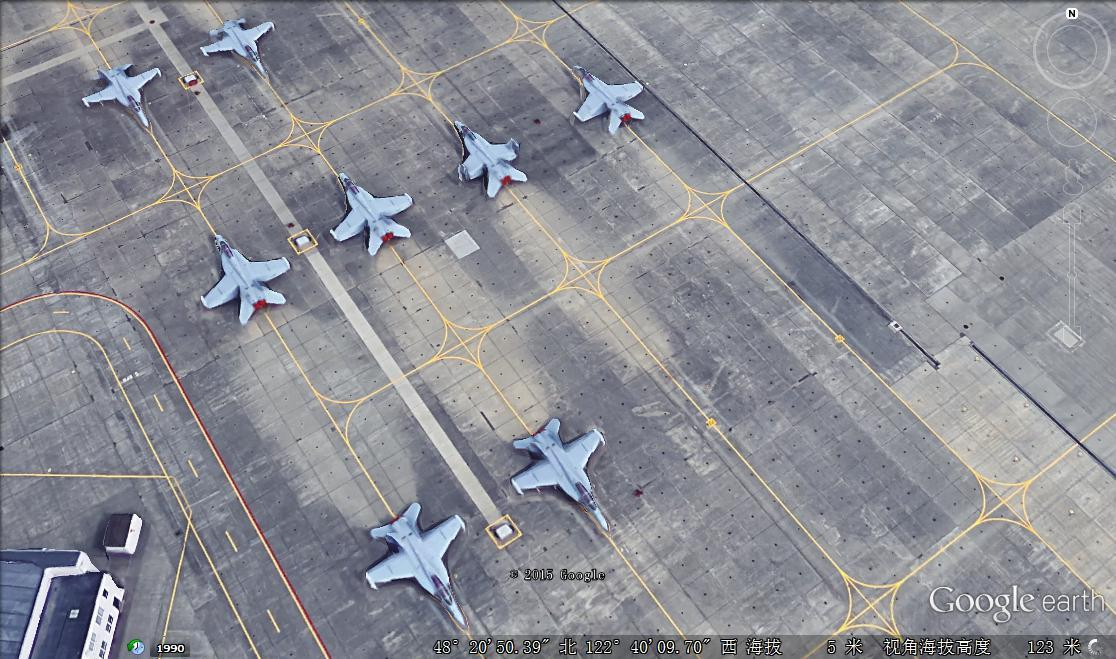F/A-18: (362, 499, 475, 633), (506, 418, 616, 533), (194, 226, 294, 324), (322, 165, 422, 257), (445, 118, 530, 199), (565, 56, 649, 136), (82, 61, 167, 128), (197, 13, 278, 78)
